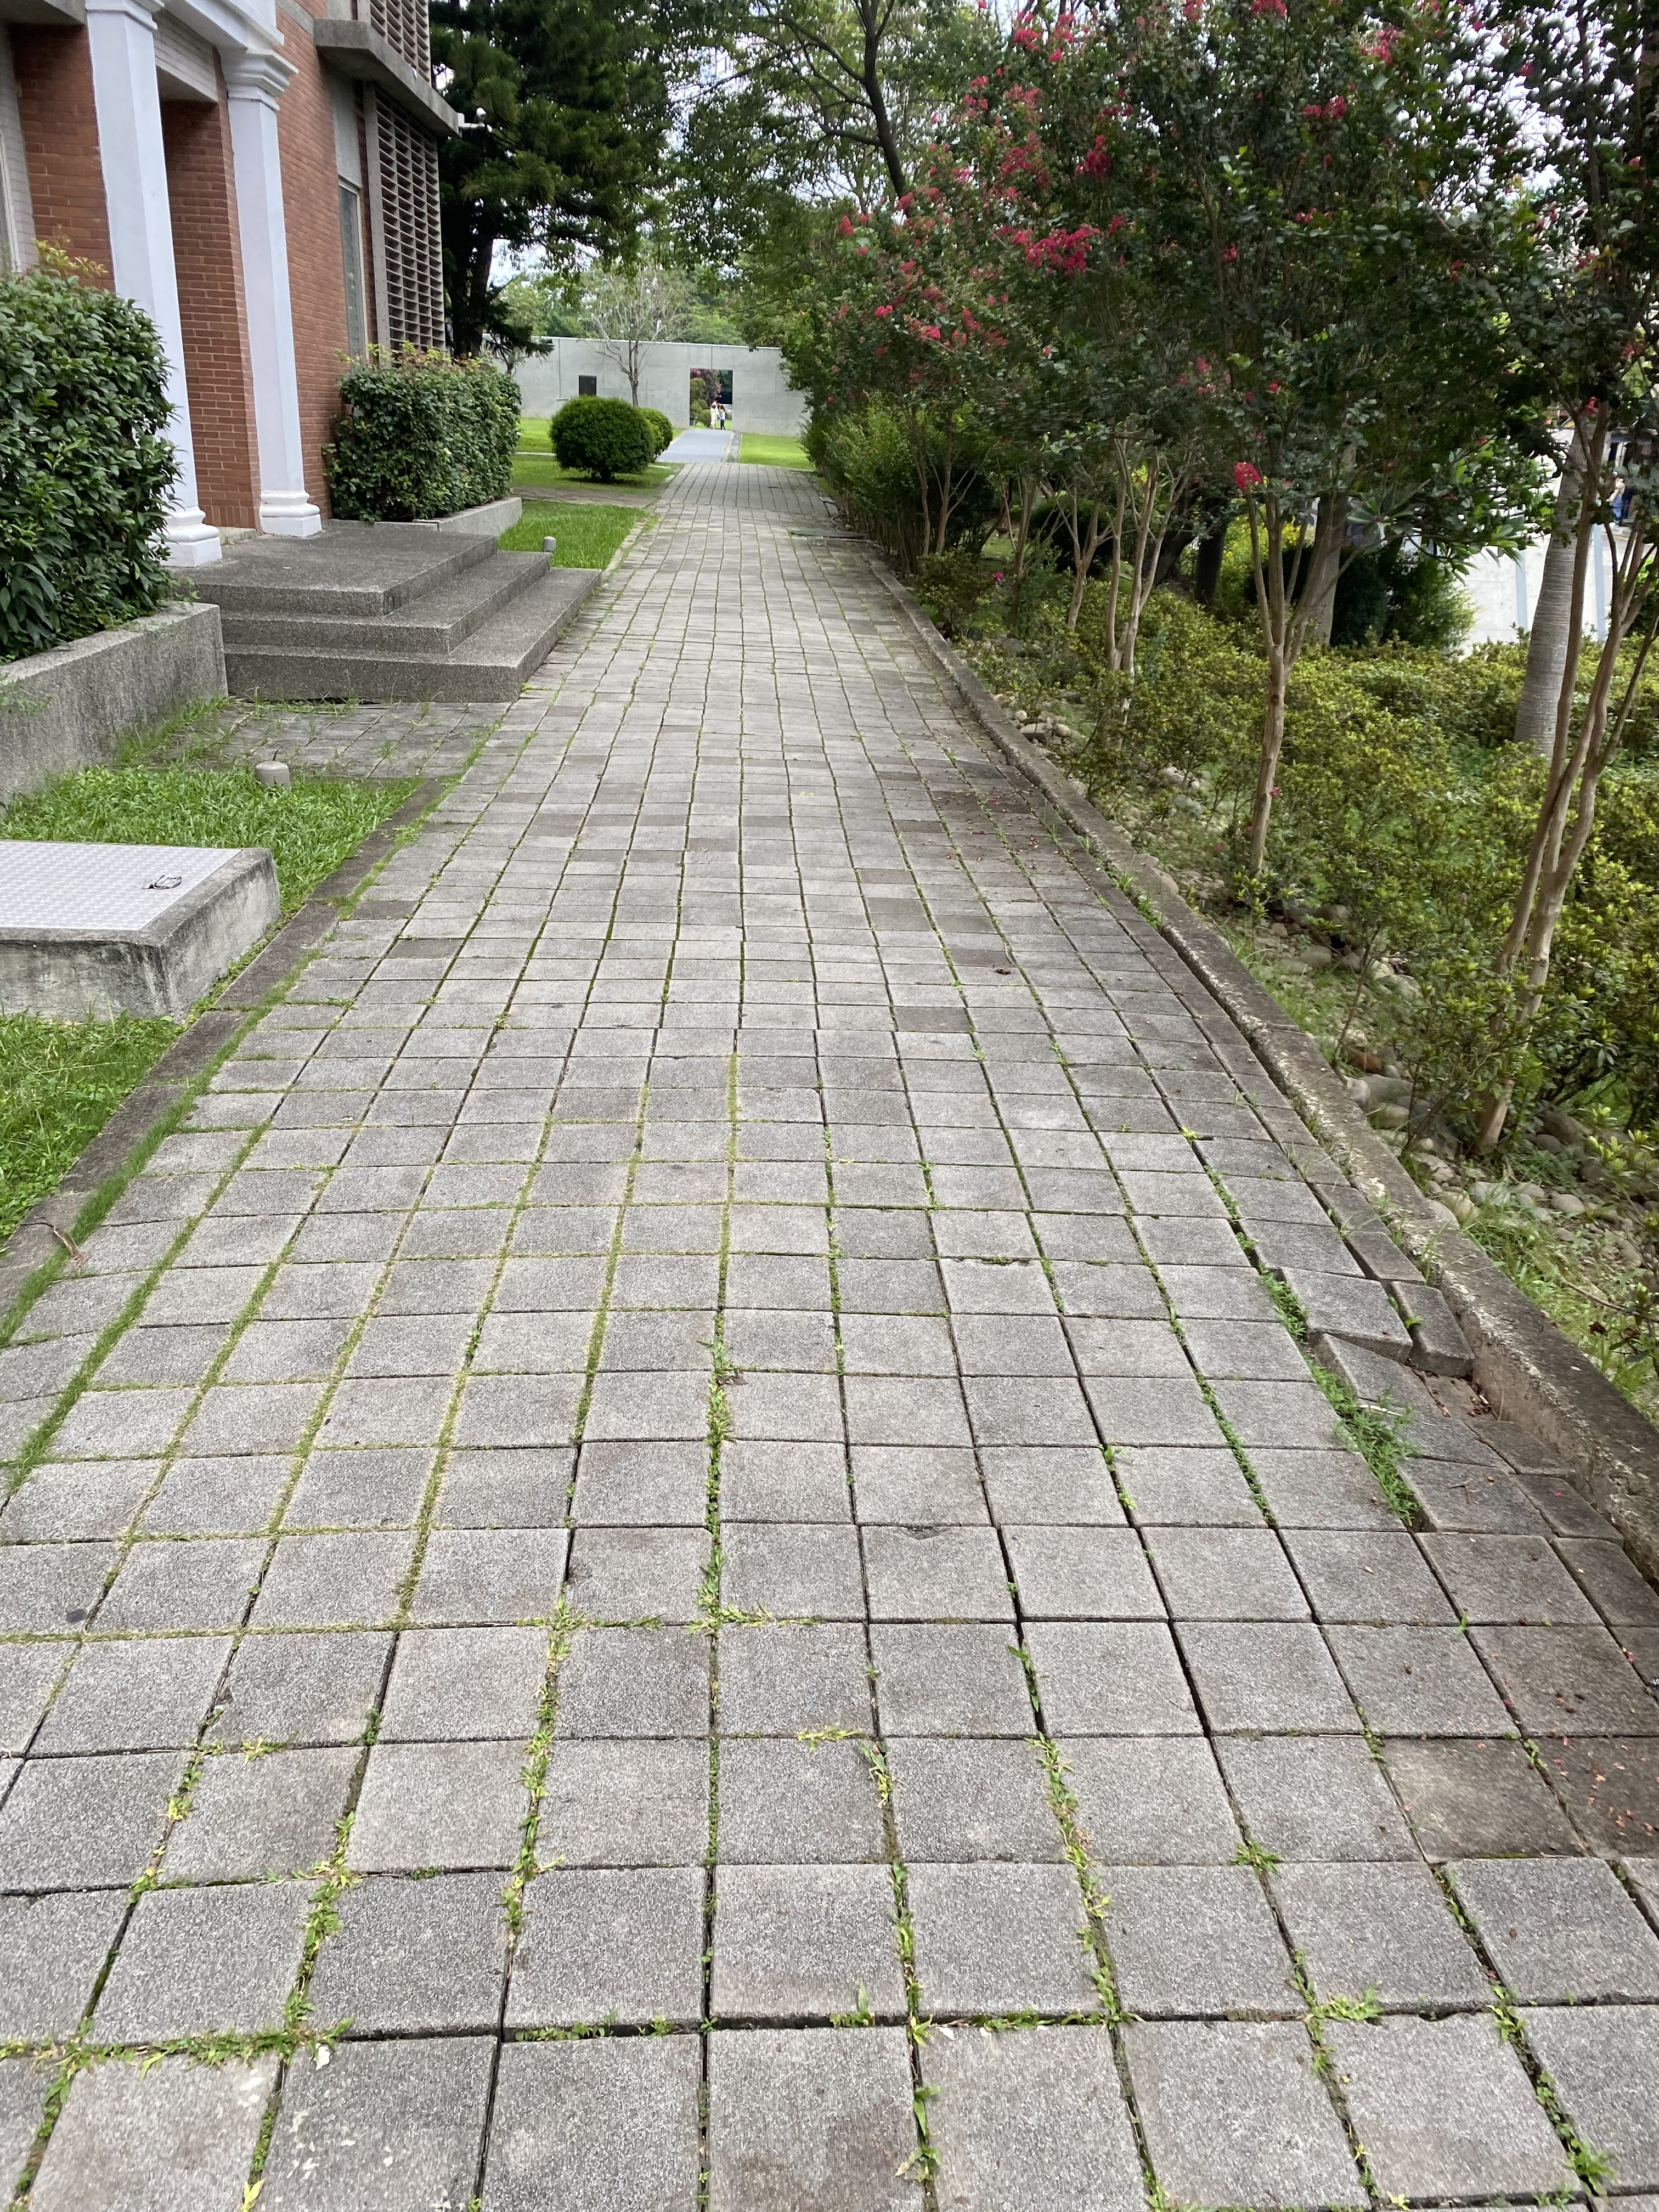0: (17, 578, 1659, 2212)
sidewalk: (605, 435, 1047, 1498)
